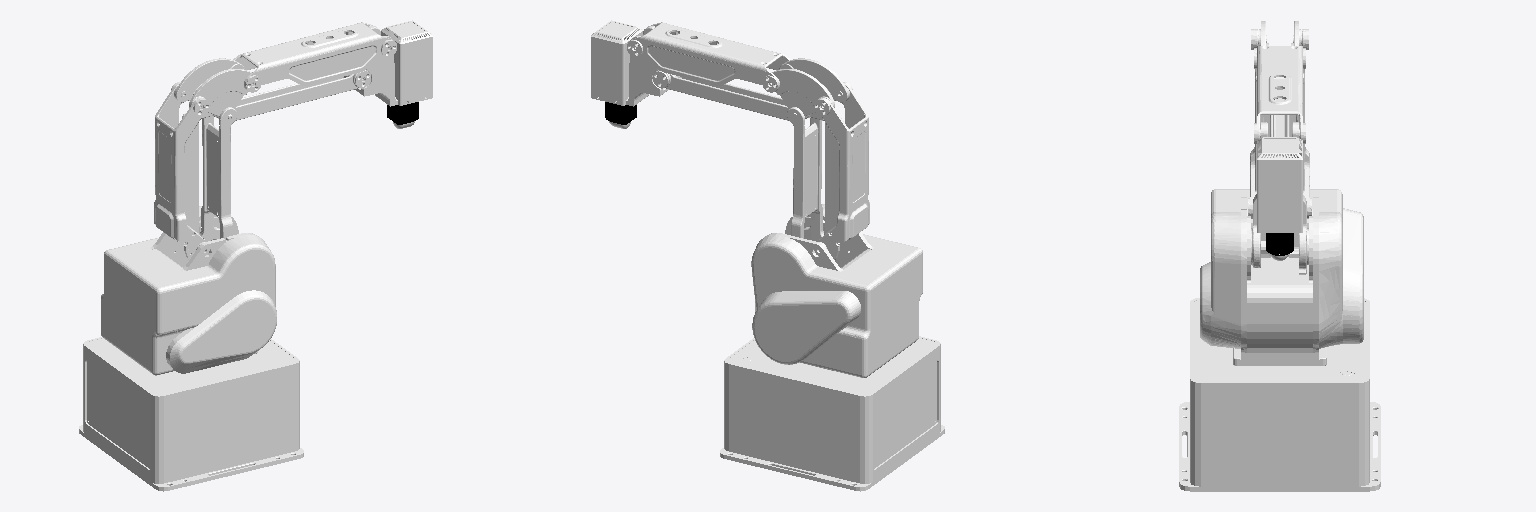
robot.urdf — mg400:
<?xml version="1.0" encoding="utf-8"?>
<!-- This URDF was automatically created by SolidWorks to URDF Exporter! Originally created by [author] ([email redacted]) 
     Commit Version: 1.6.0-1-g15f4949  Build Version: 1.6.7594.29634
     For more information, please see http://wiki.ros.org/sw_urdf_exporter -->
<robot name="mg400">
  <material name="TransparentRed">
    <color rgba="0.9 0 0.2 0.5"/>
  </material>
    <link name="base_link">
        <inertial>
            <origin xyz="0.000600637001378879 -2.53487071137343E-07 0.0560927888040551" rpy="0 0 0"/>
            <mass value="3.62164811695094"/>
            <inertia
                    ixx="0.0126582175296405"
                    ixy="6.66832041405407E-08"
                    ixz="-3.52548281362717E-06"
                    iyy="0.0145891535260188"
                    iyz="5.15901657460475E-08"
                    izz="0.0195045116656827"/>
        </inertial>
        <visual>
            <origin xyz="0 0 0" rpy="0 0 0"/>
            <geometry>
                <mesh filename="package://mg400/meshes/base_link.STL"/>
            </geometry>
            <material name="">
                <color rgba="1 1 1 1"/>
            </material>
        </visual>
        <collision>
            <origin xyz="0 0 0" rpy="0 0 0"/>
            <geometry>
                <mesh filename="package://mg400/meshes/base_link.STL"/>
            </geometry>
        </collision>
    </link>

    <link name="link1">
        <inertial>
            <origin xyz="-0.0046209286967387 -6.88107982318643E-05 0.0709919358465827" rpy="0 0 0"/>
            <mass value="1.77056222753813"/>
            <inertia
                    ixx="0.00605885293080088"
                    ixy="0.000156081820035162"
                    ixz="-0.00021785654850453"
                    iyy="0.00579381982249127"
                    iyz="6.20876898015621E-05"
                    izz="0.00741058257251941"/>
        </inertial>
        <visual>
            <origin xyz="0 0 0" rpy="0 0 0"/>
            <geometry>
                <mesh filename="package://mg400/meshes/link1.STL"/>
            </geometry>
            <material name="">
                <color rgba="1 1 1 1"/>
            </material>
        </visual>
        <collision>
            <origin xyz="0 0 0" rpy="0 0 0"/>
            <geometry>
                <mesh filename="package://mg400/meshes/link1.STL"/>
            </geometry>
        </collision>
    </link>

    <joint name="j1" type="revolute">
        <origin xyz="-0.00500000000000002 0 0.109" rpy="0 0 0"/>
        <parent link="base_link"/>
        <child link="link1"/>
        <axis xyz="0 0 1"/>
        <limit lower="-3.14" upper="3.14" effort="0" velocity="0"/>
    </joint>

    <link name="link2_1">
        <inertial>
            <origin xyz="-0.00321788524756698 0.0352926570826593 0.0596131328734945" rpy="0 0 0"/>
            <mass value="0.0866115884541459"/>
            <inertia
                    ixx="0.000338551627157209"
                    ixy="-2.78858228577314E-09"
                    ixz="1.05212346076681E-05"
                    iyy="0.000307789653713489"
                    iyz="-1.36109590152488E-06"
                    izz="3.89949940178023E-05"/>
        </inertial>
        <visual>
            <origin xyz="0 0 0" rpy="0 0 0"/>
            <geometry>
                <mesh filename="package://mg400/meshes/link2_1.STL"/>
            </geometry>
            <material name="">
                <color rgba="1 1 1 1"/>
            </material>
        </visual>
        <collision>
            <origin xyz="0 0 0" rpy="0 0 0"/>
            <geometry>
                <mesh filename="package://mg400/meshes/link2_1.STL"/>
            </geometry>
        </collision>
    </link>

    <joint name="j2_1" type="revolute">
        <origin xyz="0.0435007595118091 -0.0357748756218899 0.118995682641123" rpy="0 0 0"/>
        <parent link="link1"/>
        <child link="link2_1"/>
        <axis xyz="0 1 0"/>
        <limit lower="-3.14" upper="3.14" effort="0" velocity="0"/>
    </joint>

    <link name="link3_1">
        <inertial>
            <origin xyz="0.0821679417596488 0.000113044685842874 -0.00333758753063973" rpy="0 0 0"/>
            <mass value="0.0375214831045061"/>
            <inertia
                    ixx="2.54761091812684E-06"
                    ixy="3.73102654491378E-07"
                    ixz="-2.02625705871199E-06"
                    iyy="0.000164234314177935"
                    iyz="-1.44731096825347E-08"
                    izz="0.000164331500854172"/>
        </inertial>
        <visual>
            <origin xyz="0 0 0" rpy="0 0 0"/>
            <geometry>
                <mesh filename="package://mg400/meshes/link3_1.STL"/>
            </geometry>
            <material name="">
                <color rgba="1 1 1 1"/>
            </material>
        </visual>
        <collision>
            <origin xyz="0 0 0" rpy="0 0 0"/>
            <geometry>
                <mesh filename="package://mg400/meshes/link3_1.STL"/>
            </geometry>
        </collision>
    </link>

    <joint name="j3_1" type="revolute">
        <origin xyz="-0.0010512570171516 0.0357748756218898 0.175001164344716" rpy="0 0 0"/>
        <parent link="link2_1"/>
        <child link="link3_1"/>
        <axis xyz="0 1 0"/>
        <limit lower="-3.14" upper="3.14" effort="0" velocity="0"/>
    </joint>

    <link name="link4_1">
        <inertial>
            <origin xyz="0.0387878182928232 0.0170848333998282 -0.0024610990490942" rpy="0 0 0"/>
            <mass value="0.0628979533925801"/>
            <inertia
                    ixx="4.78483605712844E-05"
                    ixy="1.42081909356751E-07"
                    ixz="8.32917079044309E-06"
                    iyy="5.42362047732042E-05"
                    iyz="-2.90608446019989E-08"
                    izz="3.36120409842199E-05"/>
        </inertial>
        <visual>
            <origin xyz="0 0 0" rpy="0 0 0"/>
            <geometry>
                <mesh filename="package://mg400/meshes/link4_1.STL"/>
            </geometry>
            <material name="">
                <color rgba="1 1 1 1"/>
            </material>
        </visual>
        <collision>
            <origin xyz="0 0 0" rpy="0 0 0"/>
            <geometry>
                <mesh filename="package://mg400/meshes/link4_1.STL"/>
            </geometry>
        </collision>
    </link>

    <joint name="j4_1" type="revolute">
        <origin xyz="0.174969784055705 -0.0170000000000335 0.00325187137614585" rpy="0 0 0"/>
        <parent link="link3_1"/>
        <child link="link4_1"/>
        <axis xyz="0 1 0"/>
        <limit lower="-3.14" upper="3.14" effort="0" velocity="0"/>
    </joint>

    <link name="link5">
        <inertial>
            <origin xyz="4.24246458685662E-07 3.08507851181768E-14 -0.0349688816440933" rpy="0 0 0"/>
            <mass value="0.0965276919819365"/>
            <inertia
                    ixx="4.98589992160928E-05"
                    ixy="-1.534865545378E-12"
                    ixz="3.46424449605658E-10"
                    iyy="4.98589881725446E-05"
                    iyz="-5.64890953414983E-17"
                    izz="2.130463008359E-05"/>
        </inertial>
        <visual>
            <origin xyz="0 0 0" rpy="0 0 0"/>
            <geometry>
                <mesh filename="package://mg400/meshes/link5.STL"/>
            </geometry>
            <material name="">
                <color rgba="1 1 1 1"/>
            </material>
        </visual>
        <collision>
            <origin xyz="0 0 0" rpy="0 0 0"/>
            <geometry>
                <mesh filename="package://mg400/meshes/link5.STL"/>
            </geometry>
        </collision>
    </link>

    <joint name="j5" type="revolute">
        <origin xyz="0.0659996239003897 0.0170000000000371 0.031000800715573" rpy="0 0 0"/>
        <parent link="link4_1"/>
        <child link="link5"/>
        <axis xyz="-1.19408295462994E-05 0 0.999999999928708"/>
        <limit lower="-3.14" upper="3.14" effort="0" velocity="0"/>
    </joint>

    <link name="link2_2">
        <inertial>
            <origin xyz="-0.0201111131723385 0.0304999635268521 0.073632809340276" rpy="0 0 0"/>
            <mass value="0.0662546292985346"/>
            <inertia
                    ixx="0.000218973873589181"
                    ixy="3.0147933007673E-10"
                    ixz="2.51402553227571E-06"
                    iyy="0.000200510070261609"
                    iyz="-1.41837669904595E-09"
                    izz="3.74316777806776E-05"/>
        </inertial>
        <visual>
            <origin xyz="0 0 0" rpy="0 0 0"/>
            <geometry>
                <mesh filename="package://mg400/meshes/link2_2.STL"/>
            </geometry>
            <material name="">
                <color rgba="1 1 1 1"/>
            </material>
        </visual>
        <collision>
            <origin xyz="0 0 0" rpy="0 0 0"/>
            <geometry>
                <mesh filename="package://mg400/meshes/link2_2.STL"/>
            </geometry>
        </collision>
    </link>

    <joint name="j2_2" type="revolute">
        <origin xyz="0.00452885682964267 -0.0305 0.141500000000001" rpy="0 0 0"/>
        <parent link="link1"/>
        <child link="link2_2"/>
        <axis xyz="0 1 0"/>
        <limit lower="-3.14" upper="3.14" effort="0" velocity="0"/>
    </joint>

    <link name="link3_2">
        <inertial>
            <origin xyz="0.0338566736074436 0.0240208873857428 0.00452229895926692" rpy="0 0 0"/>
            <mass value="0.0366692789294813"/>
            <inertia
                    ixx="7.24011830695354E-06"
                    ixy="7.93542746250724E-10"
                    ixz="-1.69163254472566E-06"
                    iyy="2.34967008246727E-05"
                    iyz="4.55507111386579E-10"
                    izz="1.66831643179488E-05"/>
        </inertial>
        <visual>
            <origin xyz="0 0 0" rpy="0 0 0"/>
            <geometry>
                <mesh filename="package://mg400/meshes/link3_2.STL"/>
            </geometry>
            <material name="">
                <color rgba="1 1 1 1"/>
            </material>
        </visual>
        <collision>
            <origin xyz="0 0 0" rpy="0 0 0"/>
            <geometry>
                <mesh filename="package://mg400/meshes/link3_2.STL"/>
            </geometry>
        </collision>
    </link>

    <joint name="j3_2" type="revolute">
        <origin xyz="-0.00105049750546494 0.00649999999999986 0.174996846985851" rpy="0 0 0"/>
        <parent link="link2_2"/>
        <child link="link3_2"/>
        <axis xyz="0 1 0"/>
        <limit lower="-3.14" upper="3.14" effort="0" velocity="0"/>
    </joint>

    <link name="link4_2">
        <inertial>
            <origin xyz="0.0876391591012518 0.023499867452275 0.00831492252441945" rpy="0 0 0"/>
            <mass value="0.0453569016333092"/>
            <inertia
                    ixx="2.00037596001325E-05"
                    ixy="3.34474706250153E-09"
                    ixz="2.17594982354756E-07"
                    iyy="0.000132049841023893"
                    iyz="5.36978669669685E-10"
                    izz="0.000141813978894428"/>
        </inertial>
        <visual>
            <origin xyz="0 0 0" rpy="0 0 0"/>
            <geometry>
                <mesh filename="package://mg400/meshes/link4_2.STL"/>
            </geometry>
            <material name="">
                <color rgba="1 1 1 1"/>
            </material>
        </visual>
        <collision>
            <origin xyz="0 0 0" rpy="0 0 0"/>
            <geometry>
                <mesh filename="package://mg400/meshes/link4_2.STL"/>
            </geometry>
        </collision>
    </link>

    <joint name="j4_2" type="revolute">
        <origin xyz="0.0678965856063864 0.000500000000000073 0.0119719999403219" rpy="0 0 0"/>
        <parent link="link3_2"/>
        <child link="link4_2"/>
        <axis xyz="0 1 0"/>
        <limit lower="-3.14" upper="3.14" effort="0" velocity="0"/>
    </joint>

  <!--dummy joint-->
  <joint name="ee_joint" type="fixed">
    <parent link="link5"/>
    <child link="ee_link"/>
    <origin xyz="0 0 -0.065" rpy="0 0 0"/>
  </joint>

  <link name="ee_link">
    <visual>
      <origin rpy="0 0 0" xyz="0 0 0"/>
      <geometry>
        <sphere radius="0.005"/>
      </geometry>
        <material name="Red"/>
    </visual>
    <collision>
      <geometry>
        <sphere radius="0.001"/>
      </geometry>
      <origin rpy="0 0 0" xyz="0.0 0 0"/>
    </collision>
    <inertial>
      <mass value="0.0"/>
      <origin rpy="-3.14 0.0 1.57" xyz="0.0 0.0 0.0"/>
      <inertia ixx="0.001" ixy="0.0" ixz="0.0" iyy="0.001" iyz="0.0" izz="0.001"/>
    </inertial>
  </link>

      <!-- TacTip -->



  <link
    name="digitac_body_link">
  <inertial>
      <origin
        xyz="0.0044483897843889 -0.0137570316187898 -1.33478473442024E-08+0.035"
        rpy="0 0 0" />
      <mass
        value="0.00791827593084163" />
      <inertia
        ixx="7.86145751817283E-07"
        ixy="-4.85149902505629E-09"
        ixz="4.89421524982813E-12"
        iyy="1.59818901807298E-06"
        iyz="-2.18755873901251E-12"
        izz="1.06961344577448E-06" />
    </inertial>
    <visual>
      <origin
        xyz="0 0 0.035"
        rpy="0 0 0" />
      <geometry>
        <mesh
          filename="../digitac/standard_digitac/digitac_asmb/meshes/digitac_body.STL" />
      </geometry>
      <material
        name="body_color">
        <color
          rgba="0.0 0.0 0.0 1" />
      </material>
    </visual>
    <collision>
      <origin
        xyz="0 0 0.035"
        rpy="0 0 0" />
      <geometry>
        <mesh
          filename="../digitac/standard_digitac/digitac_asmb/meshes/digitac_body.STL" />
      </geometry>
    </collision>
  </link>


      <joint name="tactip_ee_joint" type="fixed">
        <parent link="ee_link"/>
        <child link="digitac_body_link"/>
        <origin rpy="-3.14 0.0 3.14" xyz="0.0 0.0 0.0"/>
      </joint>


  <link
    name="digitac_tip_link">


        <inertial>
      <origin
        xyz="1.95689617055233E-05 -0.00418318281817305 -0.00513072481258713-0.035"
        rpy="0 0 0" />
      <mass
        value="0.000211579321175967" />
      <inertia
        ixx="1.6421406108058E-08"
        ixy="-3.59682768116548E-11"
        ixz="8.26721658003392E-12"
        iyy="1.10821033019274E-08"
        iyz="-1.94916165896316E-10"
        izz="2.23470337659004E-08" />
    </inertial>
    <visual>
      <origin
        xyz="0 0 -0.035"
        rpy="0 0 0" />
      <geometry>
        <mesh
          filename="../digitac/standard_digitac/digitac_asmb_hollow/meshes/digitac_core.STL" />
      </geometry>
      <material
        name="digitac_skin">
        <color
          rgba="1.0 1.0 1.0 1" />
      </material>
    </visual>
    <collision>
      <origin
        xyz="0 0 -0.035"
        rpy="0 0 0" />
      <geometry>
        <mesh
          filename="../digitac/standard_digitac/digitac_asmb/meshes/digitac_core.STL" />
      </geometry>
    </collision>
  </link>


  <joint
    name="tactip_tip_to_body"
    type="fixed">
    <origin
      xyz="0 0 0"
      rpy="3.14159265358979 0 -1.5707963267949" />
    <parent
      link="digitac_body_link" />
    <child
      link="digitac_tip_link" />
    <axis
      xyz="0 0 0" />
  </joint>


      <!-- TCP -->
      <link name="tcp_link">
        <visual>
          <origin rpy="0 0 0" xyz="0 0 0"/>
          <geometry>
            <sphere radius="0.001"/>
          </geometry>
           <material name="TransparentRed"/>
        </visual>
        <inertial>
          <mass value="0.0"/>
          <origin rpy="0.0 0.0 1.57" xyz="0.0 0.0 0.0"/>
          <inertia ixx="1.0" ixy="0.0" ixz="0.0" iyy="1.0" iyz="0.0" izz="1.0"/>
        </inertial>
      </link>

      <joint name="tcp_joint" type="fixed">
        <parent link="digitac_body_link"/>
        <child link="tcp_link"/>
        <origin rpy="0 0 0" xyz="0.0007 0.0 0.046"/>
        <!-- <origin rpy="0 0 0" xyz="0.00145 0.0 0.025"/> -->
        <!-- <origin rpy="0 0 0" xyz="0.0018 0.0 0.025"/> -->
      </joint>



  <!-- <link
    name="sq_link">
    <inertial>
      <origin
        xyz="-0.00535000000000003 0.00799999999999999 5.00000000005617E-06-0.035"
        rpy="0 0 0" />
      <mass
        value="1.59999999999993E-07" />
      <inertia
        ixx="5.33346666666645E-14"
        ixy="-1.34013559776601E-30"
        ixz="4.41903370583012E-33"
        iyy="5.33346666666645E-14"
        iyz="-3.65677197028787E-28"
        izz="1.06666666666662E-13" />
    </inertial>
    <visual>
      <origin
        xyz=" +0.22  +0.22  +0.22"
        rpy="0 0 0" />
      <geometry>
        <mesh
          filename="../digitac/standard_digitac/digitac_asmb_skin_with_marks/meshes/sq_link.STL" />
      </geometry>
      <material
        name="Green">
        <color
          rgba="0.9 0.9 0.9 0" />
      </material>
    </visual>
    <collision>
      <origin
        xyz=" +0.22  +0.22 +0.22"
        rpy="0 0 0" />
      <geometry>
        <mesh
          filename="../digitac/standard_digitac/digitac_asmb_skin_with_marks/meshes/sq_link.STL" />
      </geometry>
    </collision>
  </link>


  <joint
    name="skin_sq_joint"
    type="fixed">
    <origin
      xyz="-0.00535000000000005 0.0132650762017464 -0.00645000000000009"
      rpy="0 0 3.14159265358979" />
    <parent
      link="digitac_tip_link" />
    <child
      link="sq_link" />
    <axis
      xyz="0 0 0" />
  </joint> -->


</robot>

--- What the picture shows (computed from the rendered views, not written in the file) ---
Views: 3 orthographic renders of the robot side by side, from view 1: azimuth 30°, elevation 25°; view 2: azimuth 150°, elevation 25°; view 3: azimuth 270°, elevation 25°.
Model mg400 with 13 links and 12 joints (8 revolute, 4 fixed), rooted at base_link, posed every joint at zero.
Links seen in each view (by area): view 1: base_link, link1, link2_2, link4_2, link4_1, link2_1, link3_2, link3_1, digitac_body_link; view 2: base_link, link1, link2_2, link4_2, link4_1, link2_1, link3_2, link3_1, digitac_body_link; view 3: base_link, link1, link4_1, link4_2, link2_2, link2_1, digitac_body_link.
Boxes of the visible links, x1=… form: base_link: x1=79, y1=337, x2=303, y2=491; link1: x1=101, y1=206, x2=276, y2=375; link2_2: x1=154, y1=82, x2=209, y2=255; link4_2: x1=233, y1=22, x2=396, y2=92; link4_1: x1=353, y1=20, x2=432, y2=106; link2_1: x1=200, y1=107, x2=236, y2=241; link3_2: x1=174, y1=58, x2=254, y2=118; link3_1: x1=182, y1=74, x2=357, y2=120; digitac_body_link: x1=387, y1=102, x2=418, y2=124; base_link: x1=720, y1=336, x2=944, y2=491; link1: x1=751, y1=204, x2=922, y2=377; link2_2: x1=814, y1=82, x2=869, y2=255; link4_2: x1=627, y1=22, x2=790, y2=92; link4_1: x1=591, y1=20, x2=670, y2=106; link2_1: x1=787, y1=107, x2=823, y2=241; link3_2: x1=769, y1=58, x2=849, y2=118; link3_1: x1=666, y1=74, x2=823, y2=120; digitac_body_link: x1=605, y1=102, x2=636, y2=124; base_link: x1=1179, y1=298, x2=1380, y2=491; link1: x1=1200, y1=189, x2=1363, y2=365; link4_1: x1=1257, y1=122, x2=1302, y2=232; link4_2: x1=1254, y1=46, x2=1305, y2=143; link2_2: x1=1248, y1=29, x2=1311, y2=218; link2_1: x1=1251, y1=73, x2=1308, y2=274; digitac_body_link: x1=1266, y1=233, x2=1293, y2=255.
Size in the robot's own frame: 0.3954 by 0.19 by 0.4597 metres.
11 mesh visuals loaded from 11 distinct referenced files (11 binary STL).